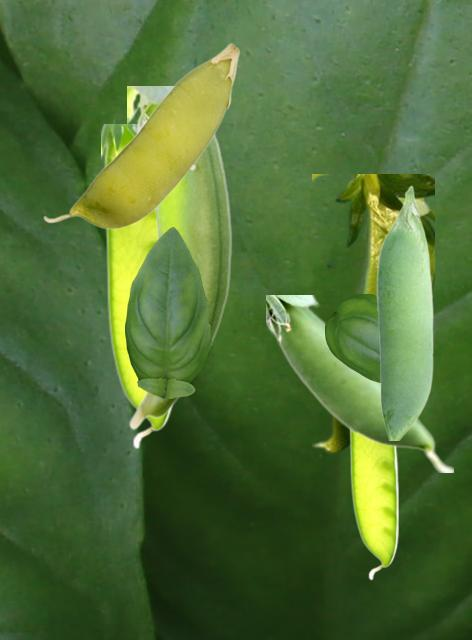pea: (127, 86, 234, 429), (43, 43, 239, 228), (312, 174, 433, 453), (266, 295, 452, 471), (101, 124, 174, 448), (376, 185, 432, 439), (349, 431, 397, 579)
